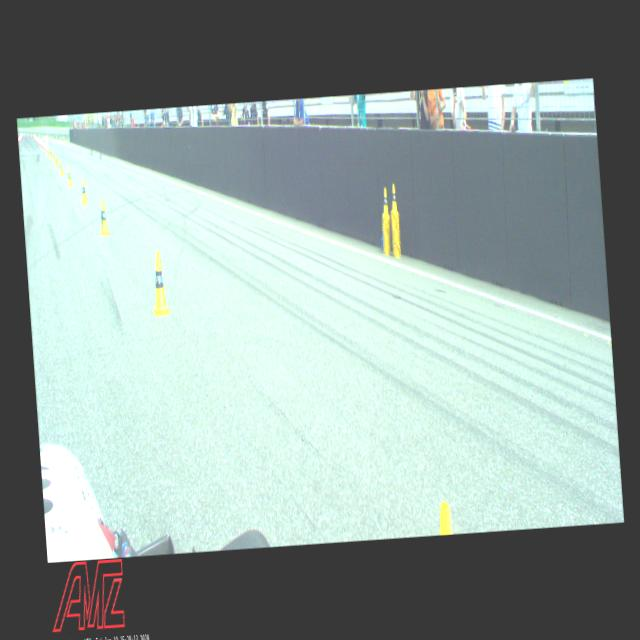large_orange_cone: (46, 139, 49, 153)
yellow_cone: (148, 250, 170, 316), (98, 199, 109, 236), (80, 178, 88, 203), (66, 166, 72, 186), (58, 158, 64, 174), (54, 154, 59, 168), (52, 150, 55, 162), (49, 148, 52, 158), (46, 146, 49, 155)
